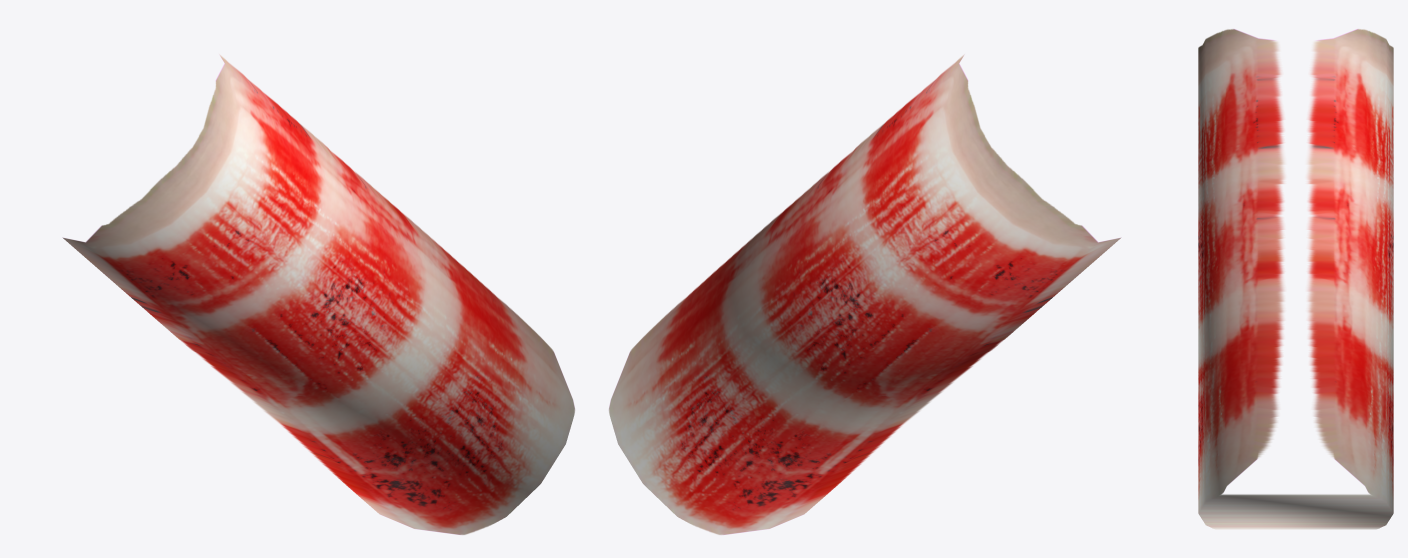
Rendered from crab-stick.glb.
3 renders of one model, left to right at view 1: azimuth 30°, elevation 25°; view 2: azimuth 150°, elevation 25°; view 3: azimuth 270°, elevation 25°, orthographic. The views are drawn at different scales.
Visible parts, largest first — view 1: crab-stick; view 2: crab-stick; view 3: crab-stick.
Boxes of the visible parts, box(x1,y1,x2,y2) form: crab-stick: box(62, 54, 574, 534); crab-stick: box(609, 54, 1121, 534); crab-stick: box(1198, 29, 1393, 529).
Bounding box in the file's own units: 1.23 × 1.26 × 0.4996.
Materials: 1 (1 with a texture image).
